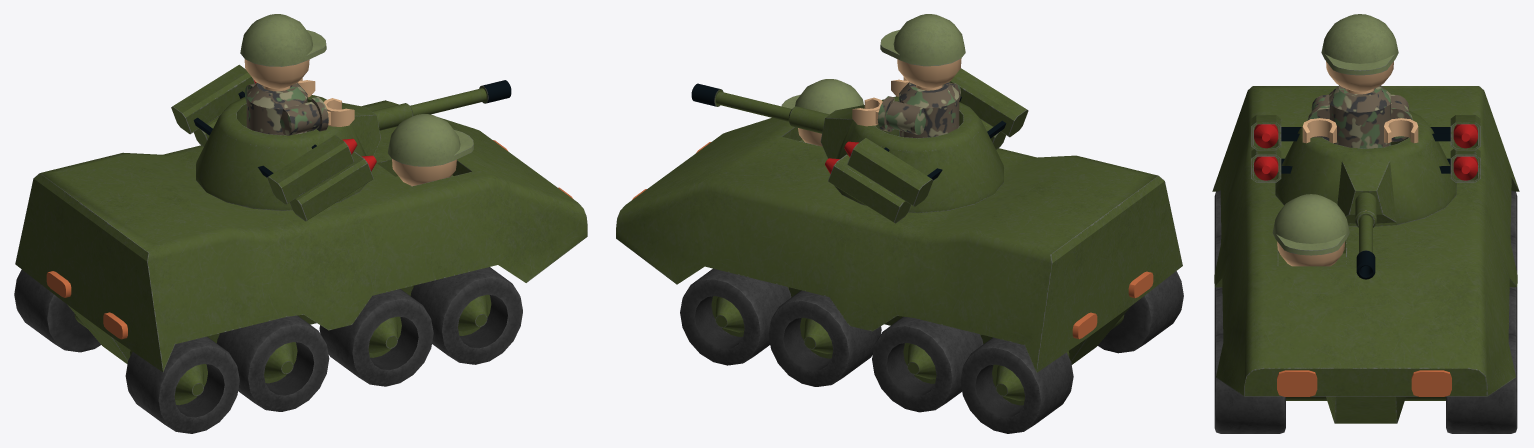
The model's file is ToyTank.fbx.
3 views of the same model, side by side, from view 1: azimuth 30°, elevation 25°; view 2: azimuth 150°, elevation 25°; view 3: azimuth 270°, elevation 25° (orthographic). The views are drawn at different scales.
Parts seen in each view (by area): view 1: ToyTank; view 2: ToyTank; view 3: ToyTank.
Boxes of the visible parts, left/top/right/bottom form: ToyTank: left=14, top=14, right=587, bottom=433; ToyTank: left=616, top=14, right=1183, bottom=433; ToyTank: left=1212, top=14, right=1519, bottom=433.
Bounding box in the file's own units: 92.69 × 65.06 × 52.95.
